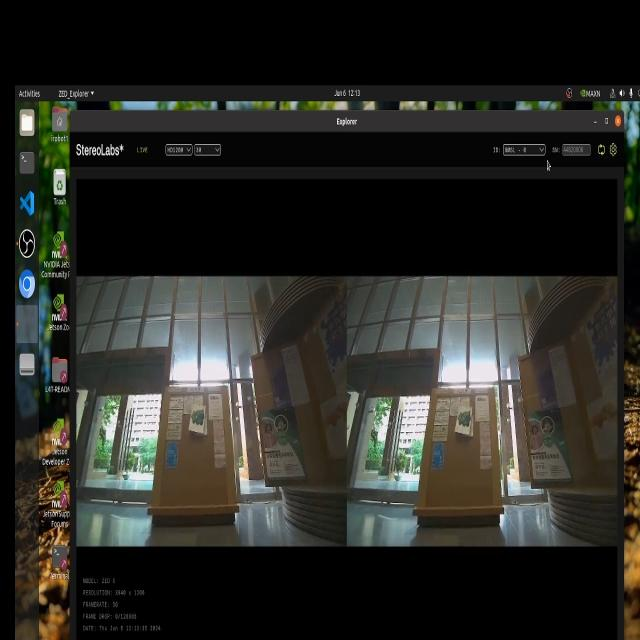green: (192, 402, 206, 430), (454, 409, 467, 430)
